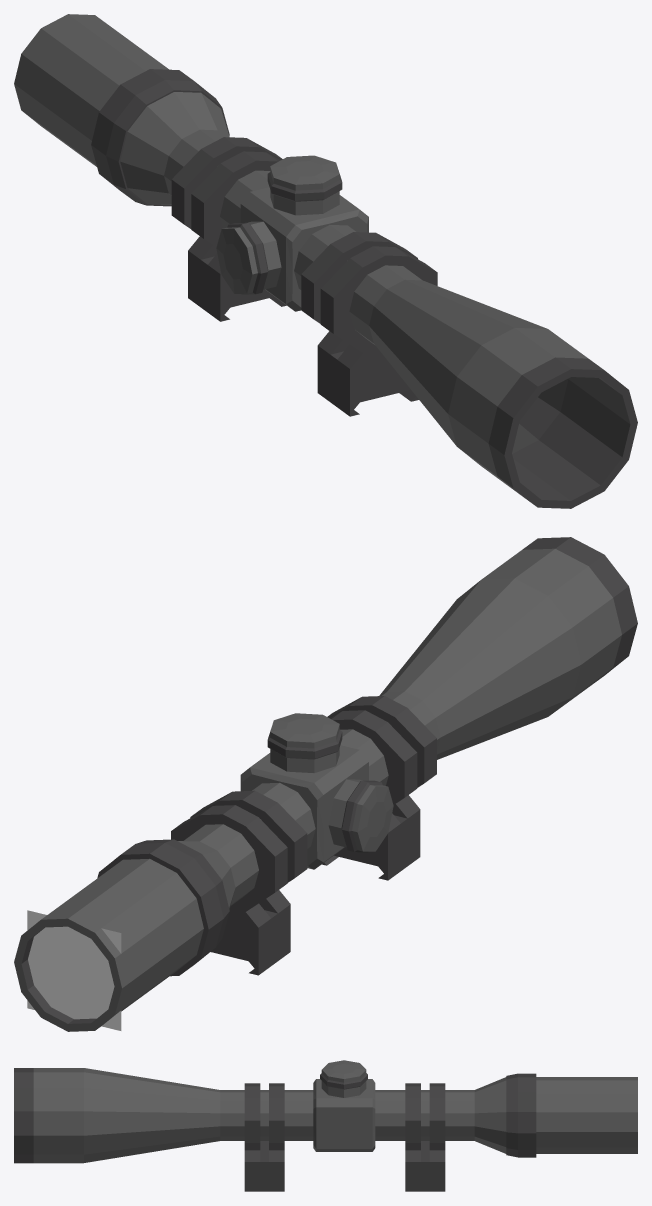
Rendered from att_scope.glb.
The picture shows the model from 3 angles, top to bottom: view 1: azimuth 30°, elevation 25°; view 2: azimuth 150°, elevation 25°; view 3: azimuth 270°, elevation 25°; orthographic projection. The views are drawn at different scales.
Parts seen in each view (by area): view 1: optic_02_black_0, Rings_0; view 2: optic_02_black_0, Rings_0, Scope_0; view 3: optic_02_black_0, Rings_0.
Part boxes in pixels (x1,y1,x2,y2): optic_02_black_0: [14, 14, 637, 508]; Rings_0: [171, 137, 437, 416]; optic_02_black_0: [14, 537, 637, 1031]; Rings_0: [171, 696, 436, 975]; Scope_0: [27, 910, 121, 1030]; optic_02_black_0: [14, 1060, 637, 1163]; Rings_0: [244, 1083, 445, 1191].
Size of the model in its own units: 0.0465 by 0.0579 by 0.2925.
2 materials, 1 textured.
